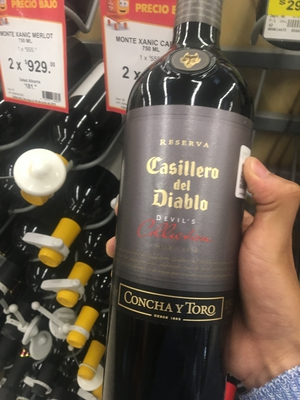casillero del diablo devils collection rojo: (106, 24, 253, 398)
